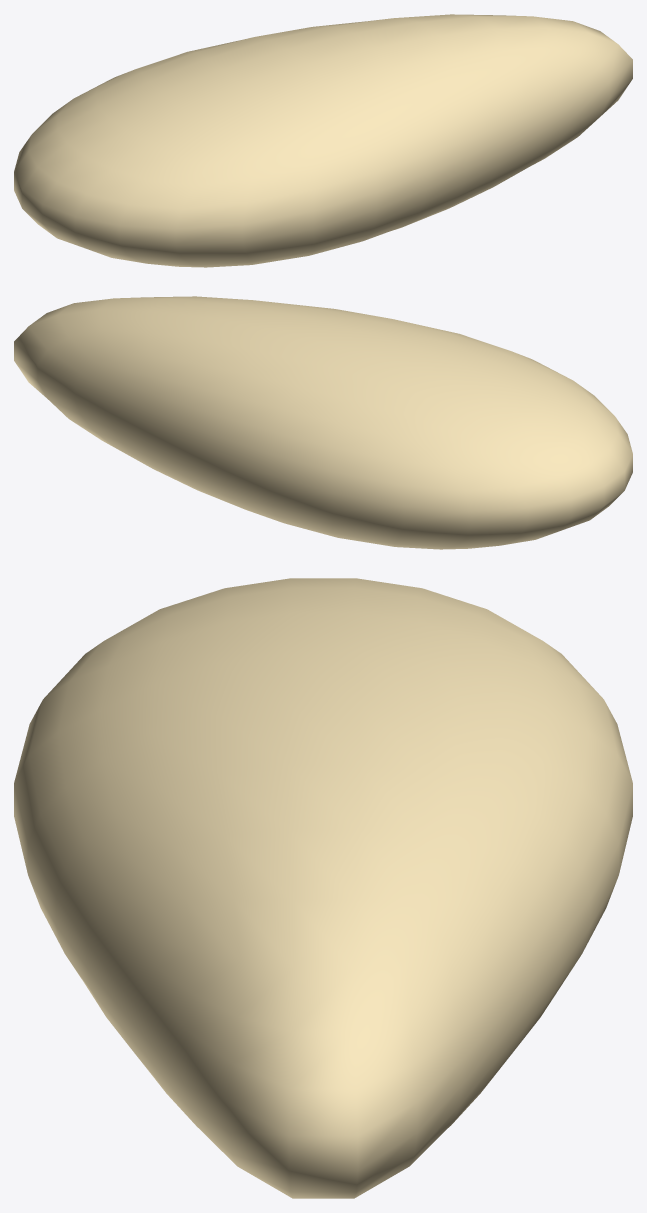
File: debris_seed.glb
3 views of the same model, one above another, from view 1: azimuth 30°, elevation 25°; view 2: azimuth 150°, elevation 25°; view 3: azimuth 270°, elevation 25° (orthographic). The views are drawn at different scales.
Parts seen in each view (by area): view 1: debris_seed; view 2: debris_seed; view 3: debris_seed.
Part boxes in pixels (x1=…): debris_seed: x1=14, y1=14, x2=632, y2=267; debris_seed: x1=14, y1=296, x2=632, y2=549; debris_seed: x1=14, y1=578, x2=632, y2=1198.
Size of the model in its own units: 0.1864 by 0.0513 by 0.092.
